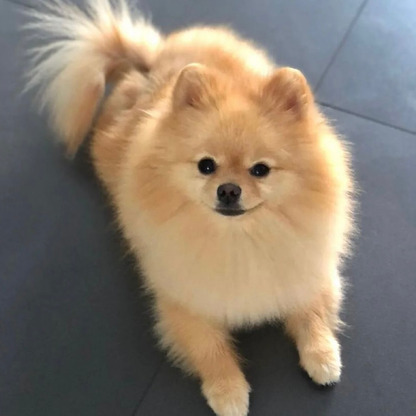Pomeranian: (44, 19, 383, 402)
